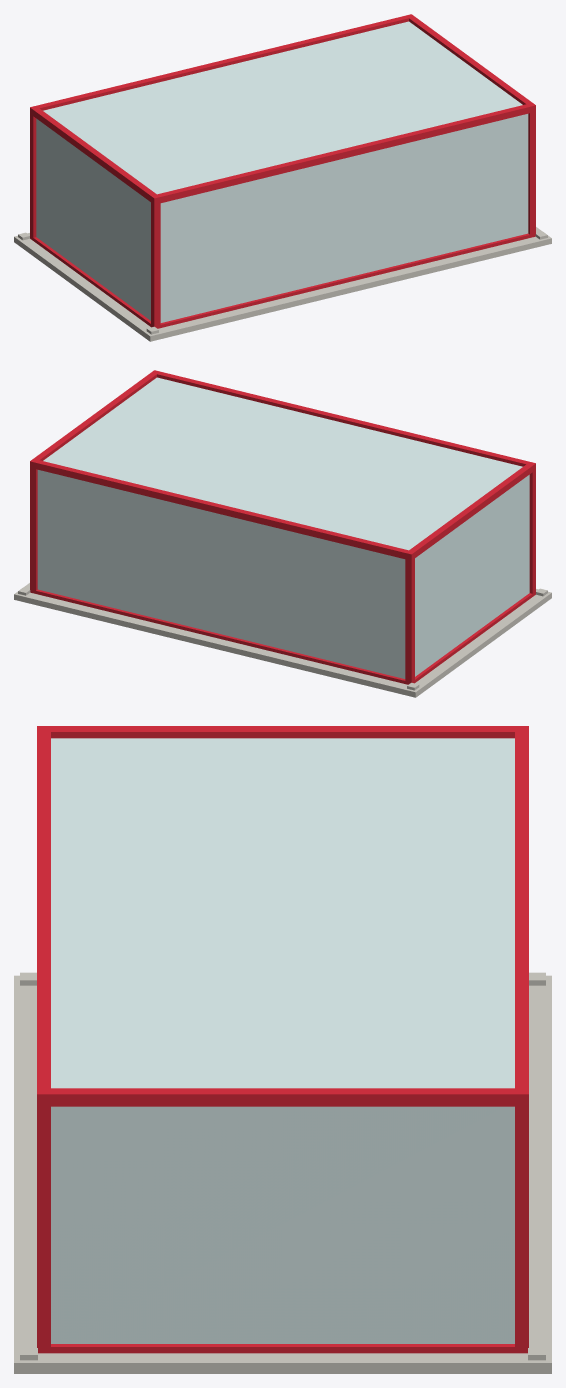
Rendered from land-rover-defender.glb.
The picture shows the model from 3 angles, top to bottom: view 1: azimuth 30°, elevation 25°; view 2: azimuth 150°, elevation 25°; view 3: azimuth 270°, elevation 25°; orthographic projection. The views are drawn at different scales.
Bounding box in the file's own units: 0.46 × 0.1495 × 0.27.
